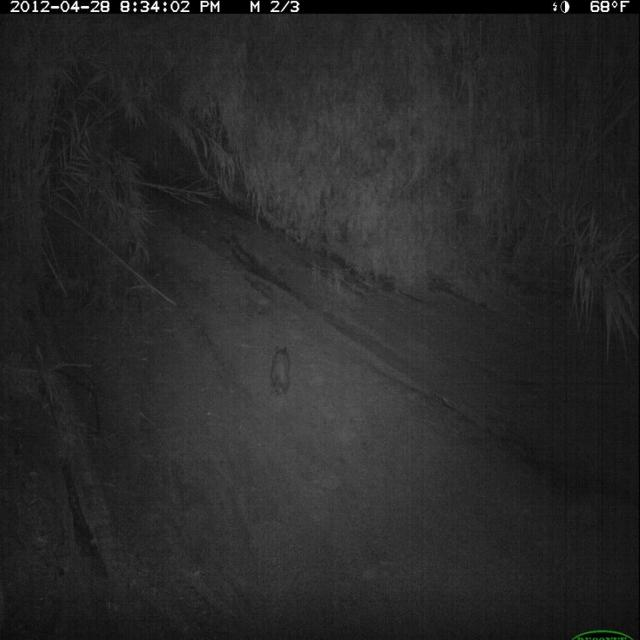opossum: (269, 340, 295, 402)
